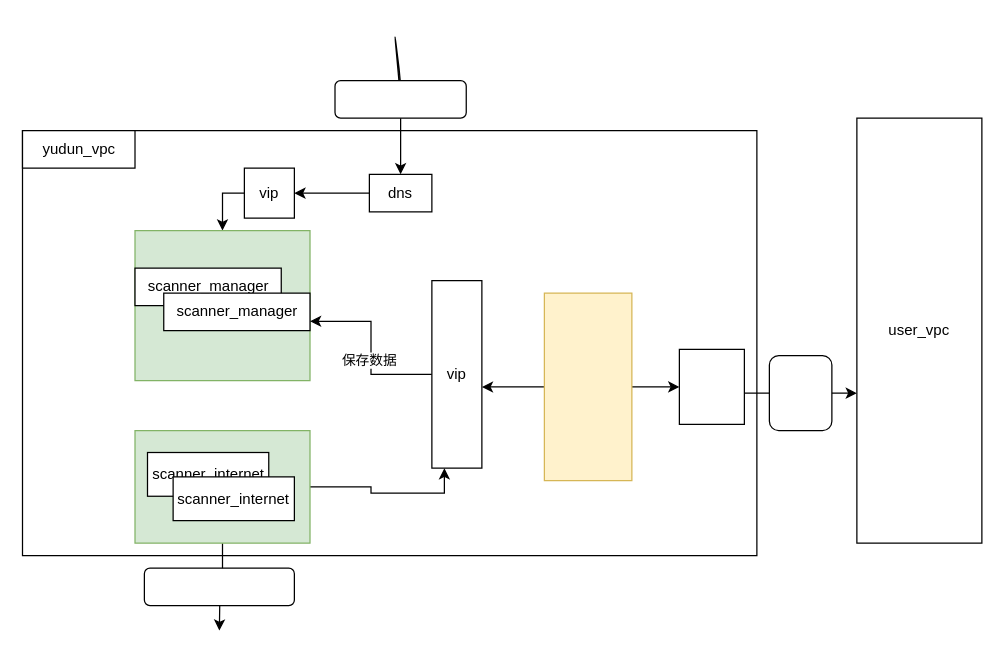
Image size: 1004x663. Some labels were removed from this diagram. Here are the shapes that lost their labels. From the top down, the centre of each, then its label:
At (x=400, y=98): "console".
At (x=587, y=386): "scanner_vpc".
At (x=711, y=386): "user_eni".
At (x=800, y=392): "扫描vpc资产".
At (x=218, y=586): "扫描公网资产".
